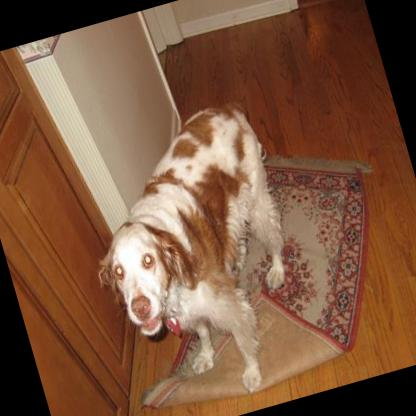Brittany_spaniel: (59, 93, 329, 416)
